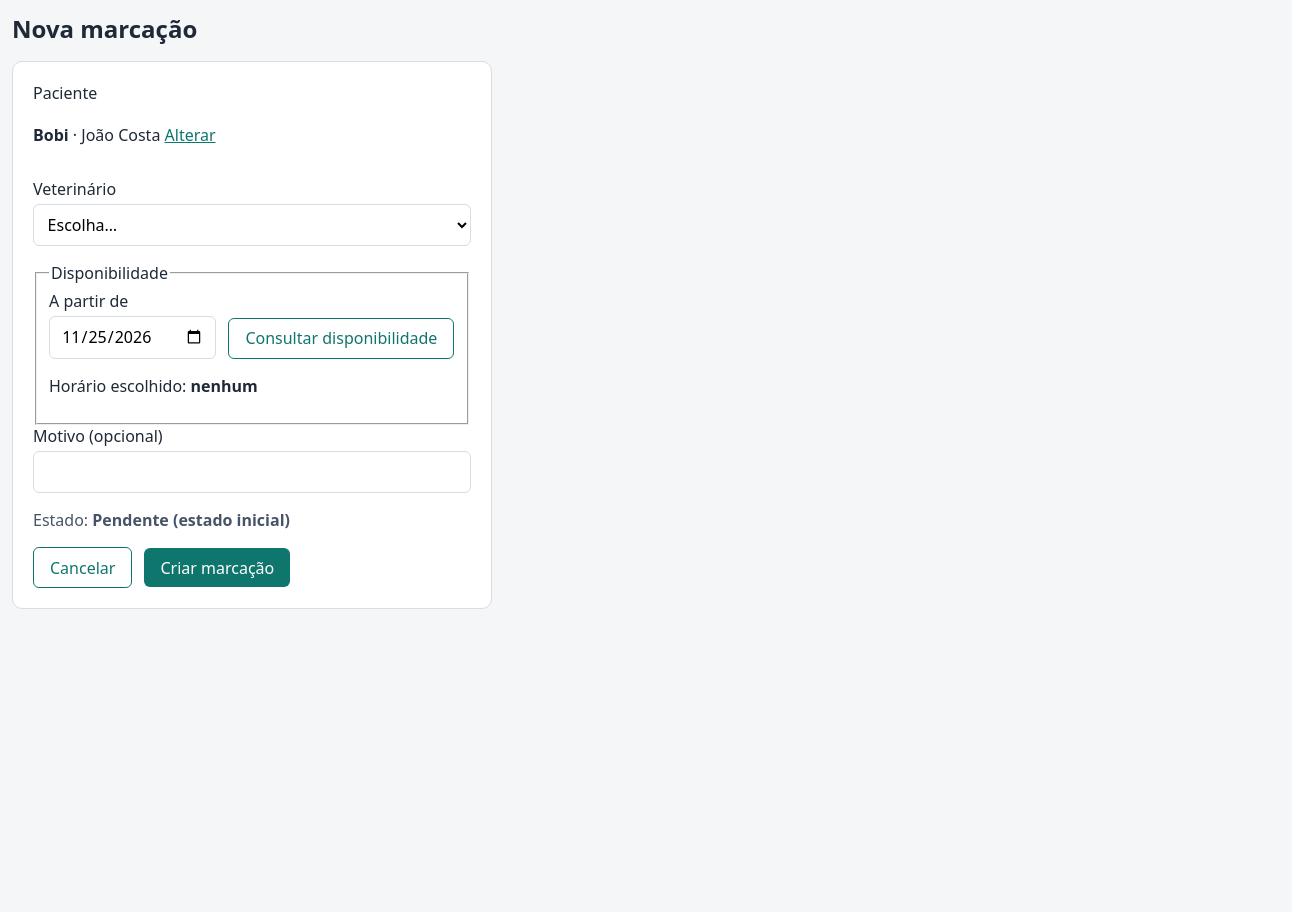
Scenario: W10 — nova marcação › se a vaga deixou de estar livre, mostra a resposta e atualiza a disponibilidade (critério 5)
Select "Dra. Ana" in the dropdown labelled "Veterinário" at (252, 225), box [33,204,471,246]
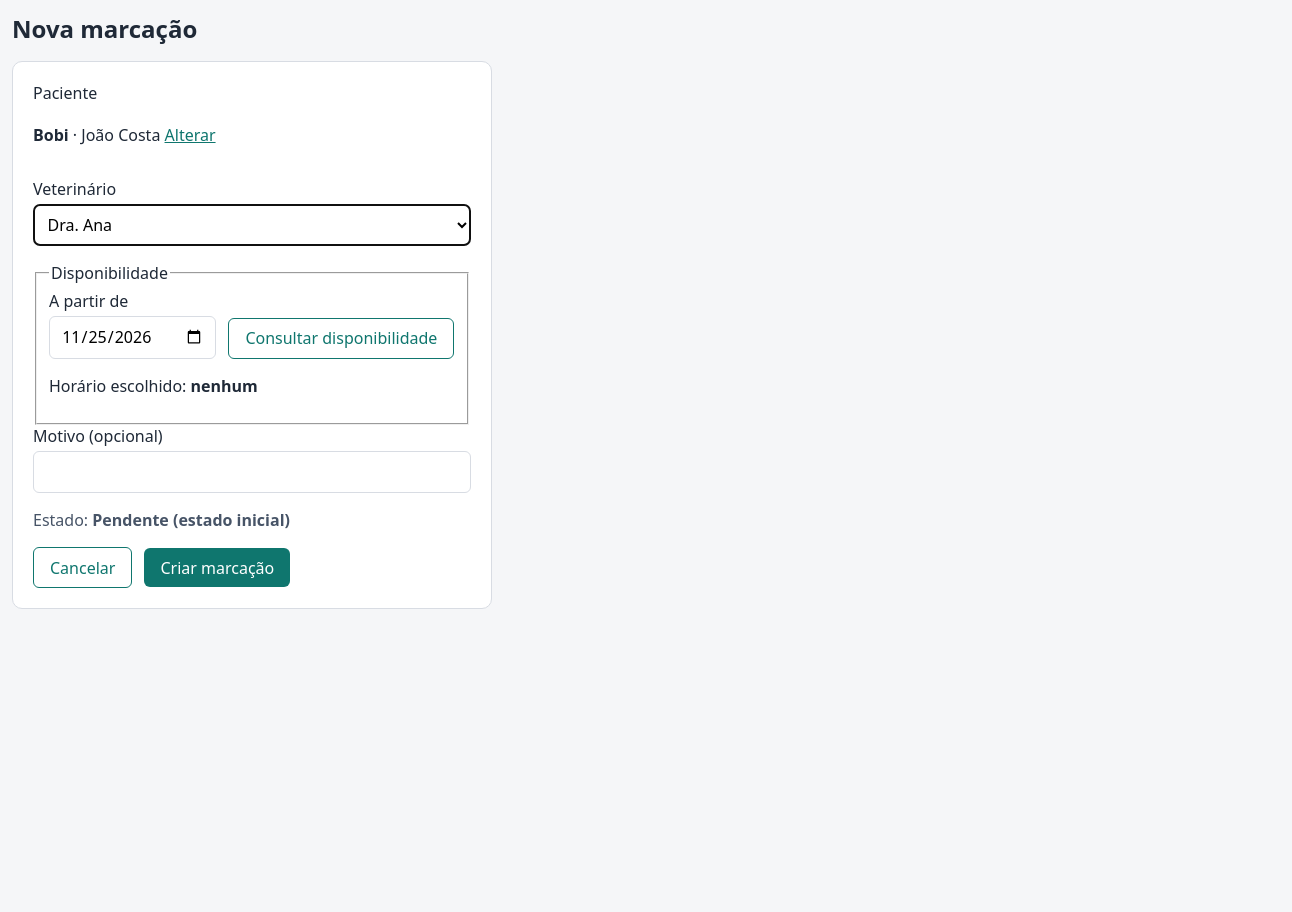
Click the button "Consultar disponibilidade" at (341, 338), box [228,318,454,359]
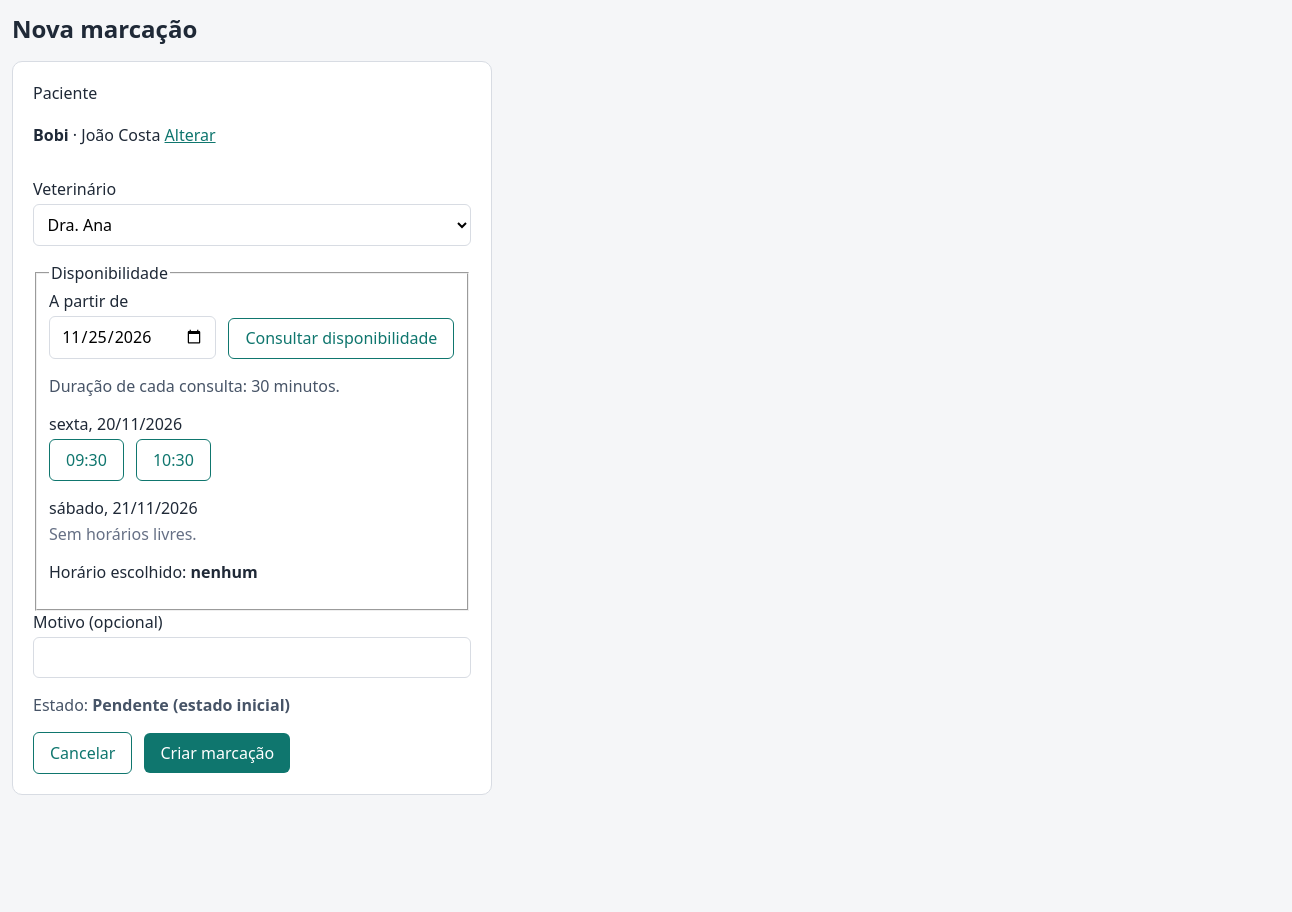
Click the button "10:30" at (173, 460), box [136,439,211,481]
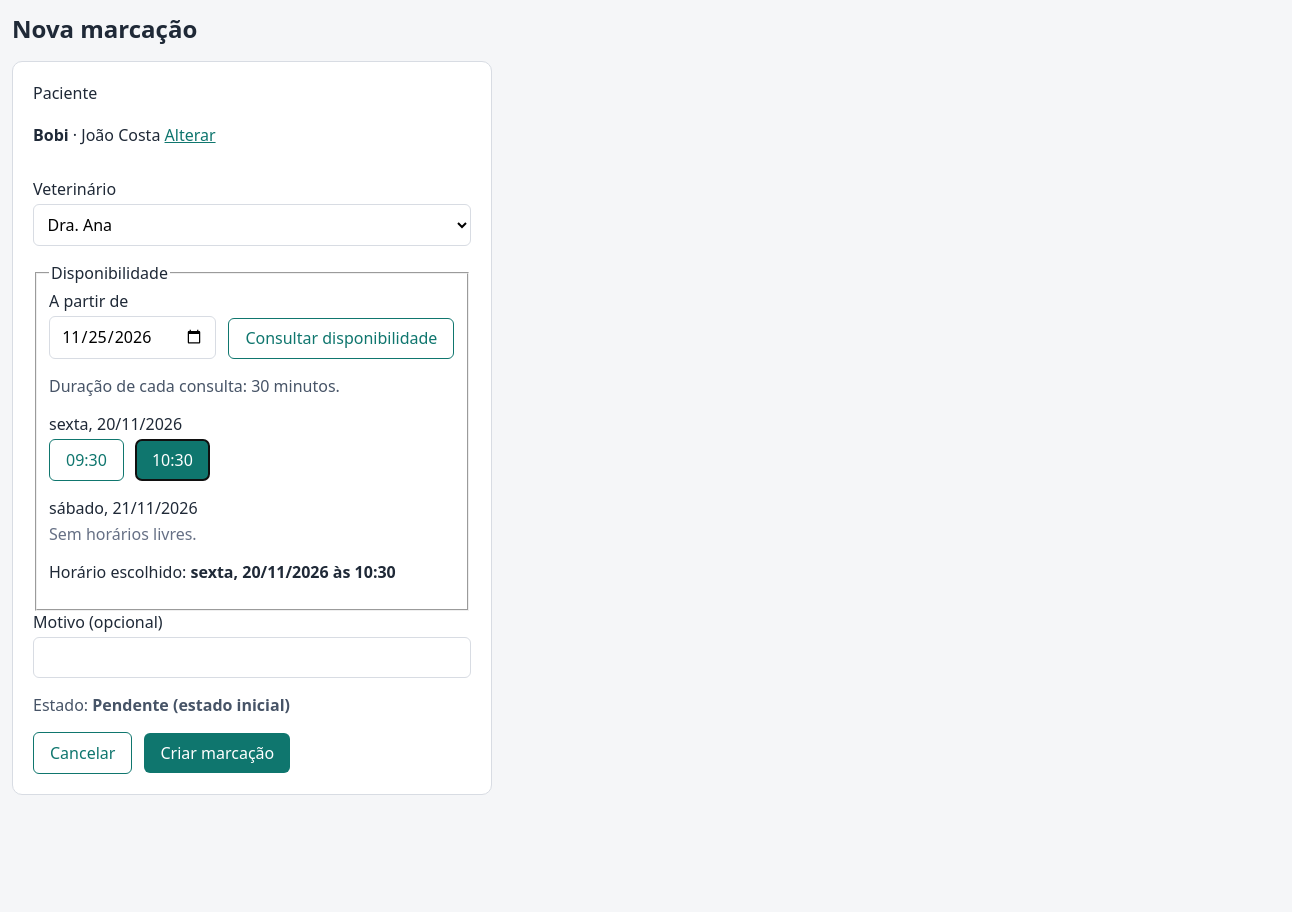
Click the button "Criar marcação" at (217, 753), box [144,733,290,773]
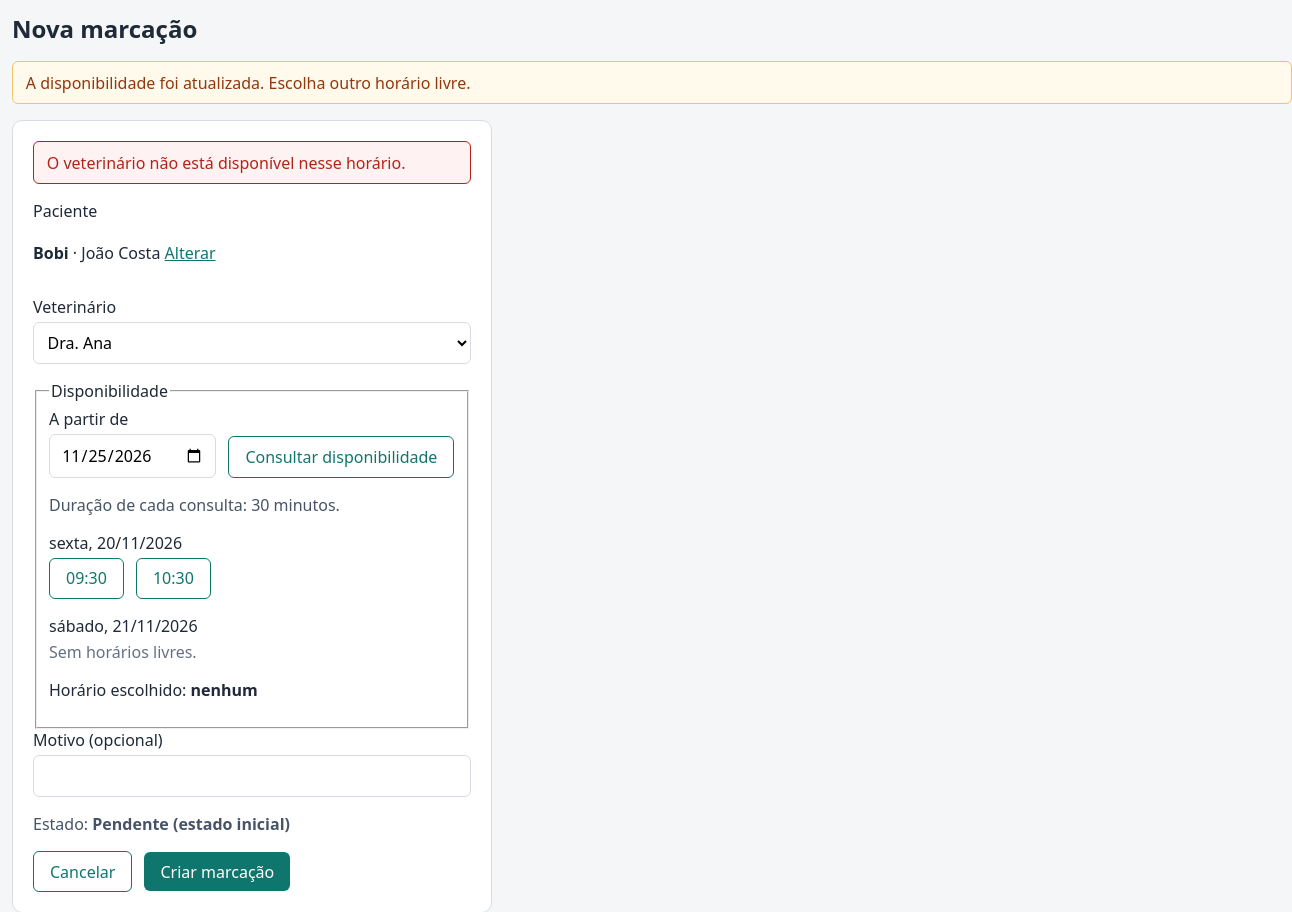
expect the message "O veterinário não está disponível nesse horário." is shown: met, box [33,141,471,184]
expect the text "A disponibilidade foi atualizada. Escolha outro horário livre." is shown: met, box [12,61,1291,104]
expect the text "nenhum" is shown: met, box [191,679,258,701]
